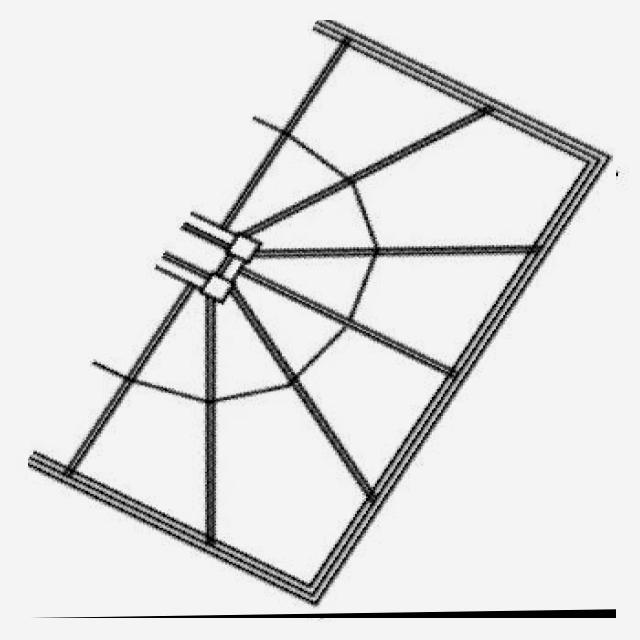stair: (28, 20, 616, 618)
